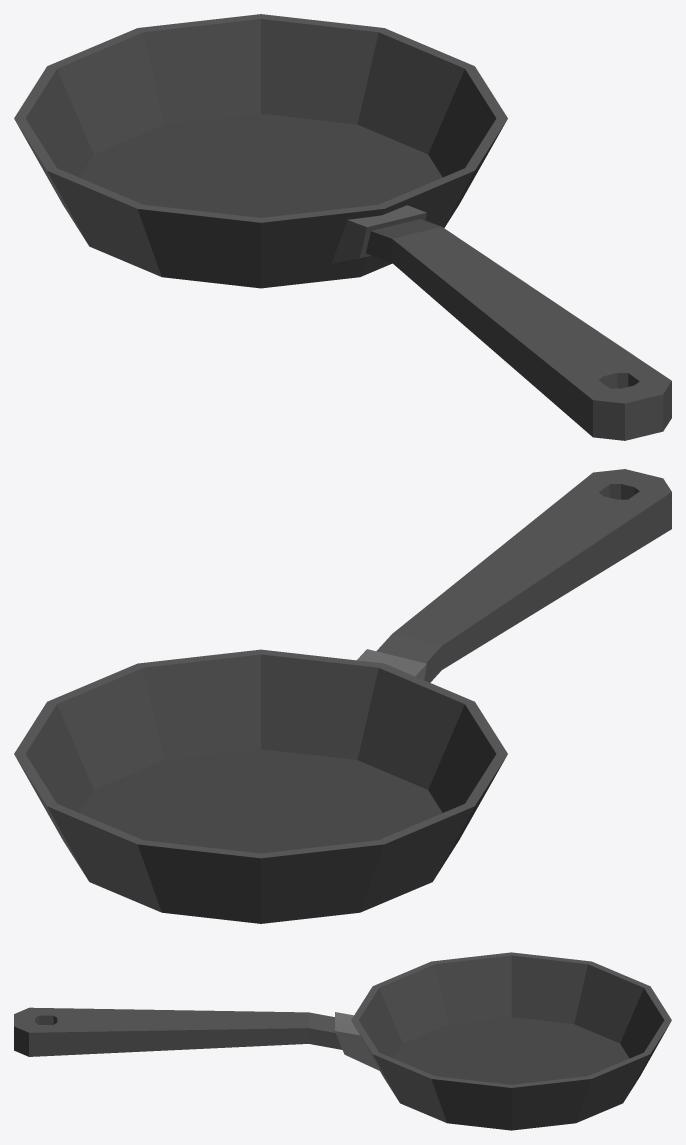
Rendered from Pan_06_C2.fbx.
3 views of the same model, one above another, from view 1: azimuth 30°, elevation 25°; view 2: azimuth 150°, elevation 25°; view 3: azimuth 270°, elevation 25° (orthographic). The views are drawn at different scales.
Parts seen in each view (by area): view 1: Pan_06_C2; view 2: Pan_06_C2; view 3: Pan_06_C2.
Boxes of the visible parts, left/top/right/bottom form: Pan_06_C2: left=14, top=14, right=671, bottom=440; Pan_06_C2: left=14, top=469, right=671, bottom=923; Pan_06_C2: left=14, top=952, right=671, bottom=1130.
Size of the model in its own units: 18.36 by 3.53 by 37.64.
